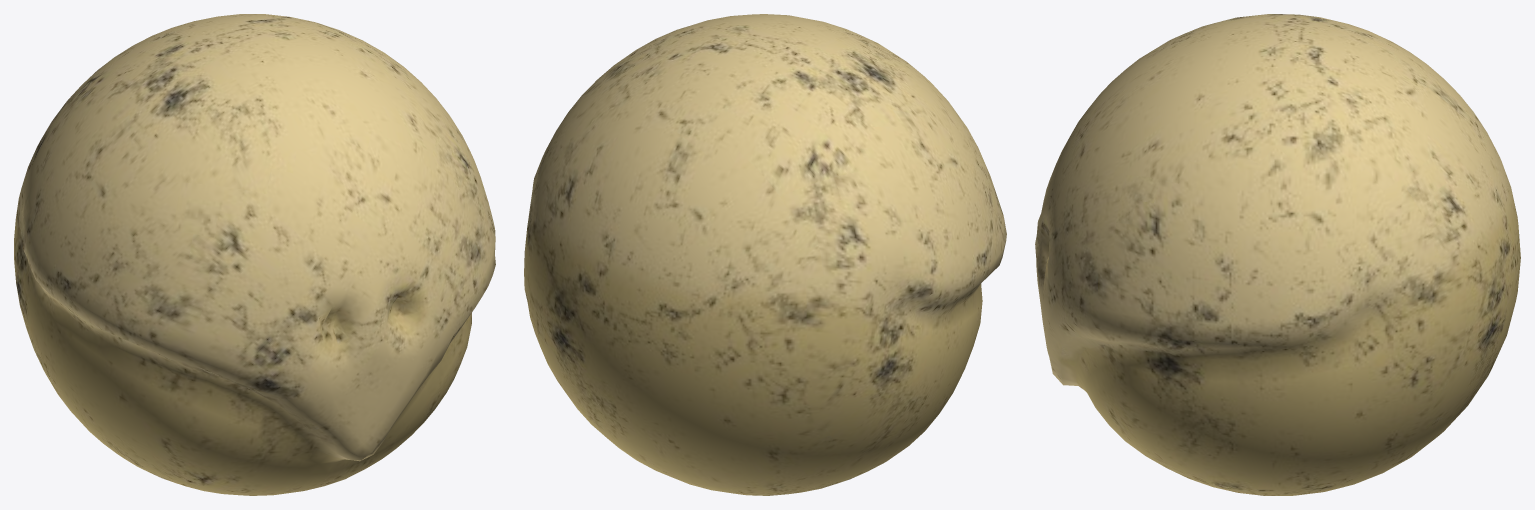
The model's file is Beak_Low.fbx.
3 views of the same model, side by side, from view 1: azimuth 30°, elevation 25°; view 2: azimuth 150°, elevation 25°; view 3: azimuth 270°, elevation 25° (orthographic).
Visible parts, largest first — view 1: Low; view 2: Low; view 3: Low.
Part boxes in pixels (x1,y1,x2,y2): Low: (14, 14, 495, 495); Low: (524, 14, 1006, 495); Low: (1035, 14, 1520, 495).
Bounding box in the file's own units: 100 × 101 × 102.
1 material, 1 textured.
